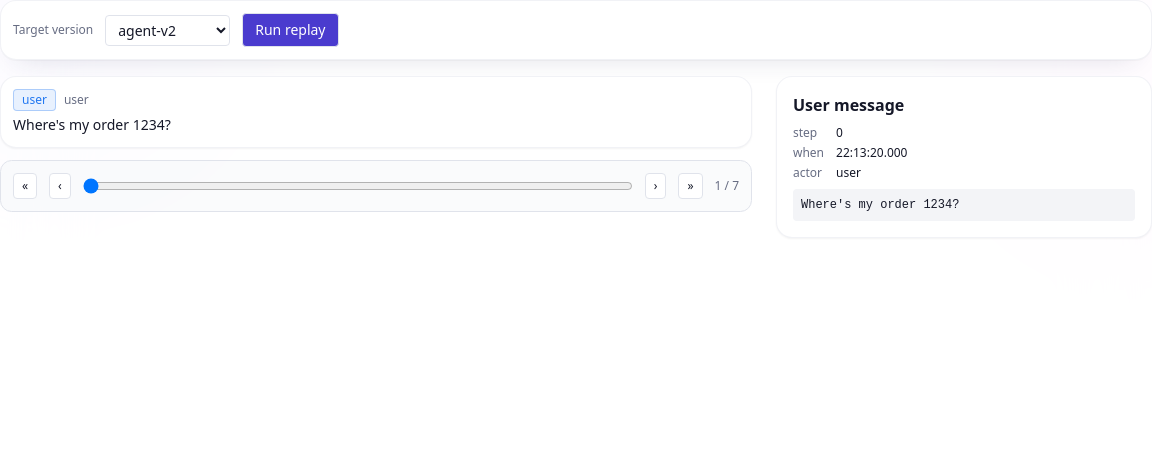
Scenario: ReplayPlayer › clicking next jumps to the next boundary, skipping tokens
The image size is (1152, 469).
Click the button with test id "replay-next".
click(656, 186)  # box [645,173,666,199]
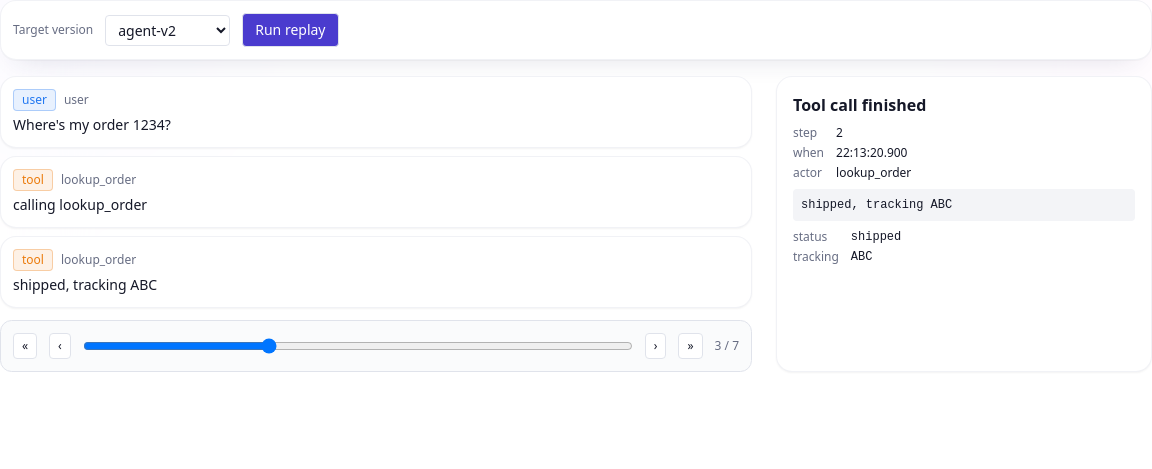
Result: the text with test id "replay-cursor" reads "3 / 7" at [714,338,739,354]
Click the button with test id "replay-next".
click(656, 346)  # box [645,333,666,359]
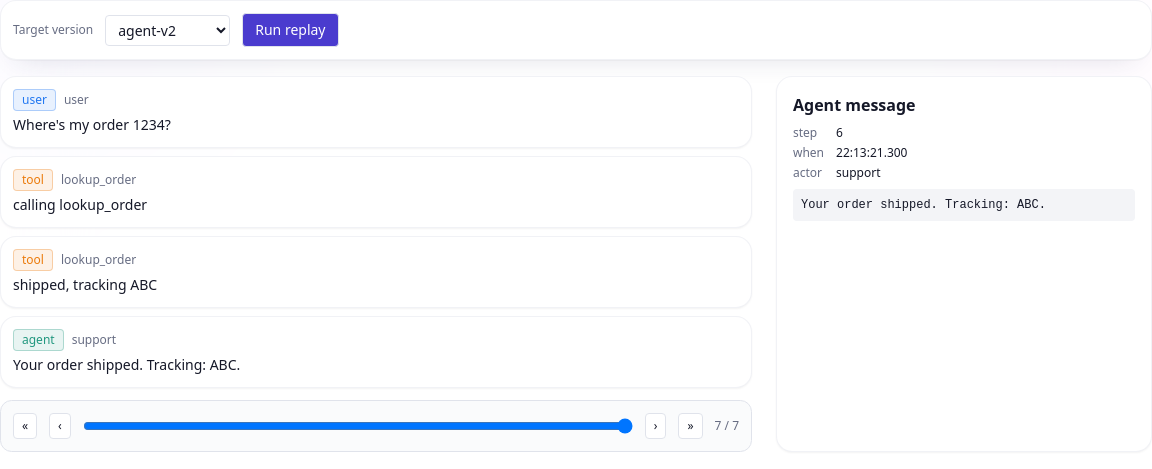
Result: the text with test id "replay-cursor" reads "7 / 7" at [714,418,739,434]
